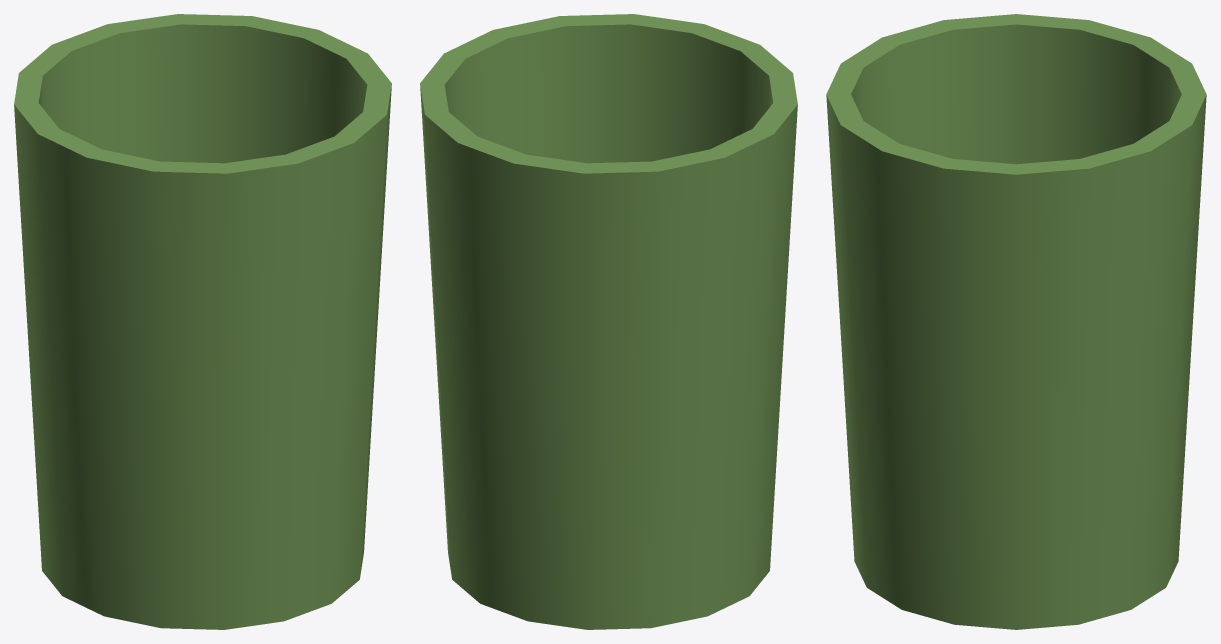
The model's file is SM_Cup.fbx.
3 renders of one model, left to right at view 1: azimuth 30°, elevation 25°; view 2: azimuth 150°, elevation 25°; view 3: azimuth 270°, elevation 25°, orthographic.
Visible parts, largest first — view 1: Cup; view 2: Cup; view 3: Cup.
Part boxes in pixels (x1,y1,x2,y2): Cup: [14, 14, 391, 629]; Cup: [420, 14, 797, 629]; Cup: [826, 14, 1206, 629].
Size of the model in its own units: 9 by 12.19 by 9.
